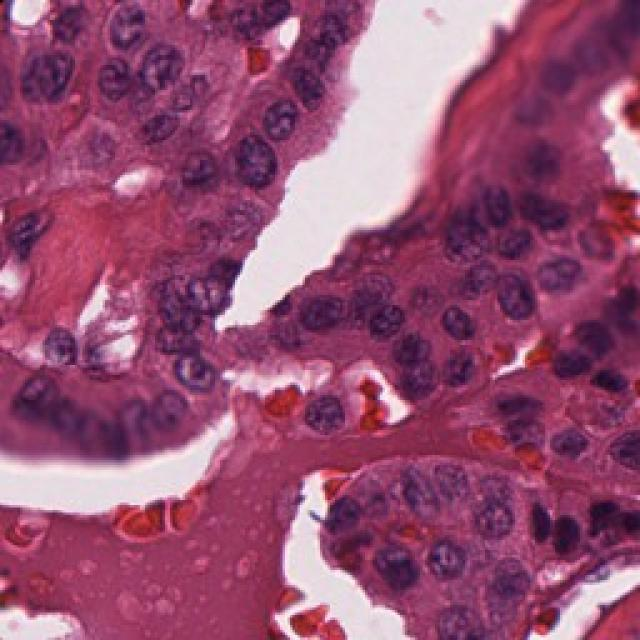abnormal: (206, 116, 309, 221), (275, 40, 364, 124), (530, 395, 606, 487), (453, 470, 527, 564), (130, 347, 233, 413), (475, 256, 568, 328), (524, 220, 596, 311), (409, 519, 479, 608), (26, 297, 96, 382), (356, 531, 441, 601), (0, 186, 76, 262), (172, 254, 244, 334), (132, 26, 212, 95), (291, 270, 357, 347), (1, 43, 78, 108), (428, 274, 487, 356), (424, 339, 493, 408), (306, 478, 371, 547), (301, 381, 361, 450), (133, 33, 193, 97), (366, 289, 414, 351), (602, 410, 640, 481)
